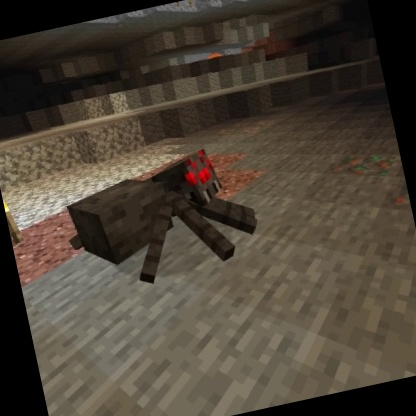spider: (52, 136, 270, 303)
